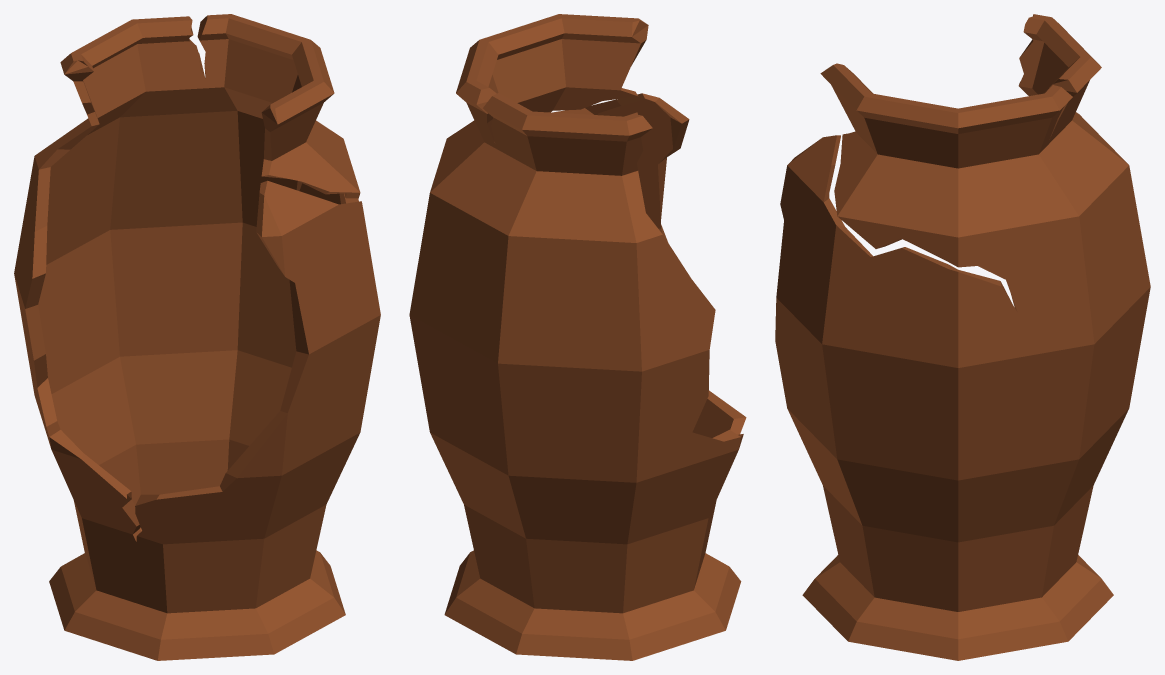
Rendered from Collin_BrokenVase_001_Body.fbx.
The picture shows the model from 3 angles, left to right: view 1: azimuth 30°, elevation 25°; view 2: azimuth 150°, elevation 25°; view 3: azimuth 270°, elevation 25°; orthographic projection.
Parts seen in each view (by area): view 1: Broken_Vase_005; view 2: Broken_Vase_005; view 3: Broken_Vase_005.
Boxes of the visible parts, x1,y1,x2,y2 form: Broken_Vase_005: (14, 14, 380, 660); Broken_Vase_005: (409, 14, 746, 660); Broken_Vase_005: (775, 14, 1150, 660).
Size of the model in its own units: 50.56 by 82.04 by 51.88.
1 material, 1 textured.
